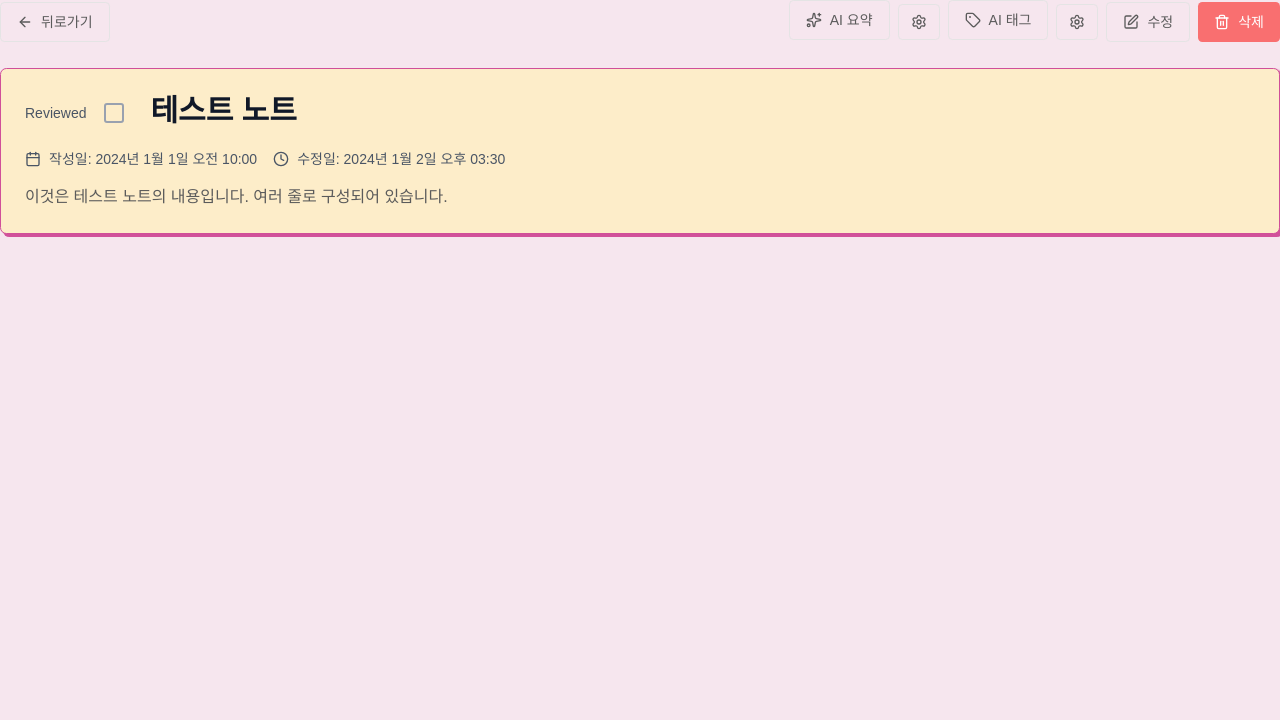
NoteDetail › 삭제 버튼 클릭 시 삭제 확인 다이얼로그가 표시된다
This screenshot has width=1280, height=720.
What coordinates should you click on to do the following:
click the button "삭제"
I would click on:
 (1239, 22)
Its box is [1198,2,1279,42].
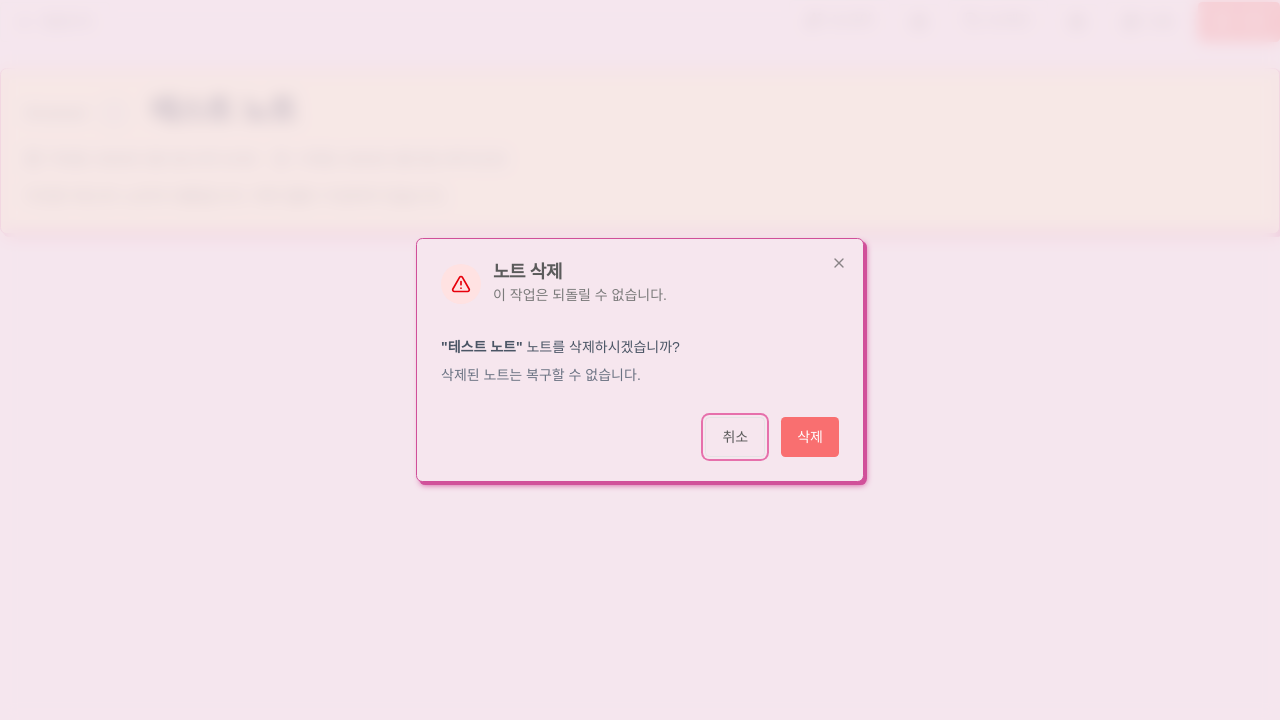
Expected: the heading "노트 삭제" is shown, [493,262,562,282]
Expected: the text "이 작업은 되돌릴 수 없습니다." is shown, [493,285,667,305]
